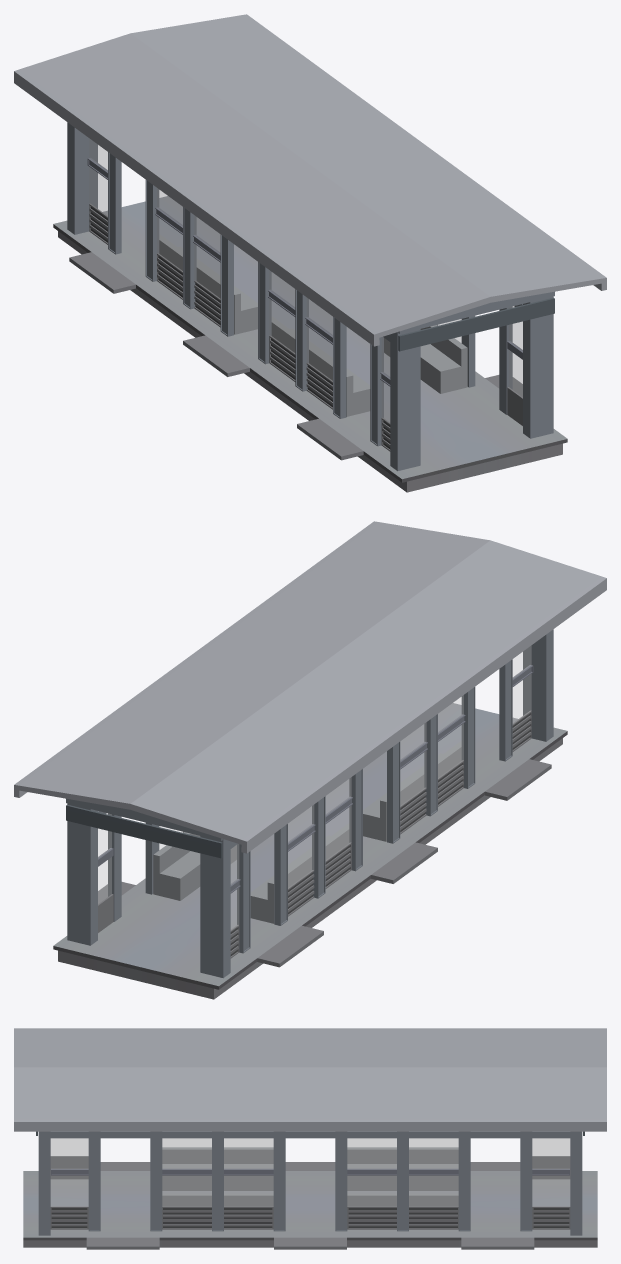
The model's file is brt-station.gltf.
The picture shows the model from 3 angles, top to bottom: view 1: azimuth 30°, elevation 25°; view 2: azimuth 150°, elevation 25°; view 3: azimuth 270°, elevation 25°; orthographic projection. The views are drawn at different scales.
Visible parts, largest first — view 1: Plane009, Plane009_1; view 2: Plane009, Plane009_1; view 3: Plane009, Plane009_1.
Boxes of the visible parts, x1,y1,x2,y2 form: Plane009: (14, 14, 606, 492); Plane009_1: (89, 139, 522, 423); Plane009: (14, 521, 606, 999); Plane009_1: (98, 646, 531, 930); Plane009: (14, 1028, 606, 1249); Plane009_1: (50, 1138, 570, 1206).
Size of the model in its own units: 4.48 by 3.33 by 12.
2 materials, 1 textured.
